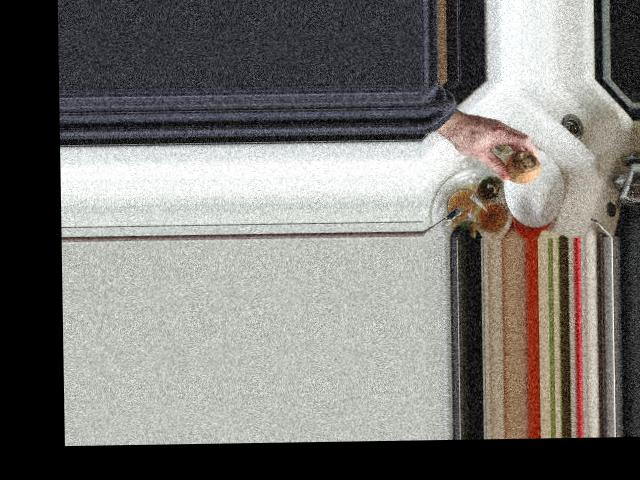sweet_potato: (496, 148, 542, 185)
